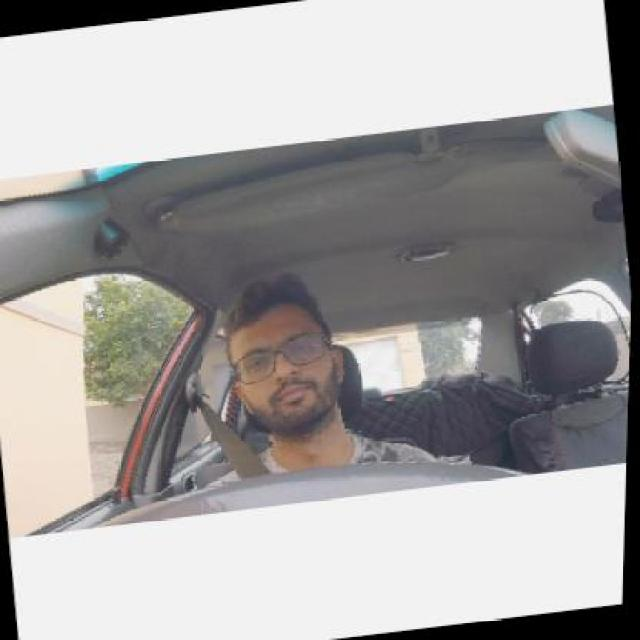person: (214, 272, 354, 439)
